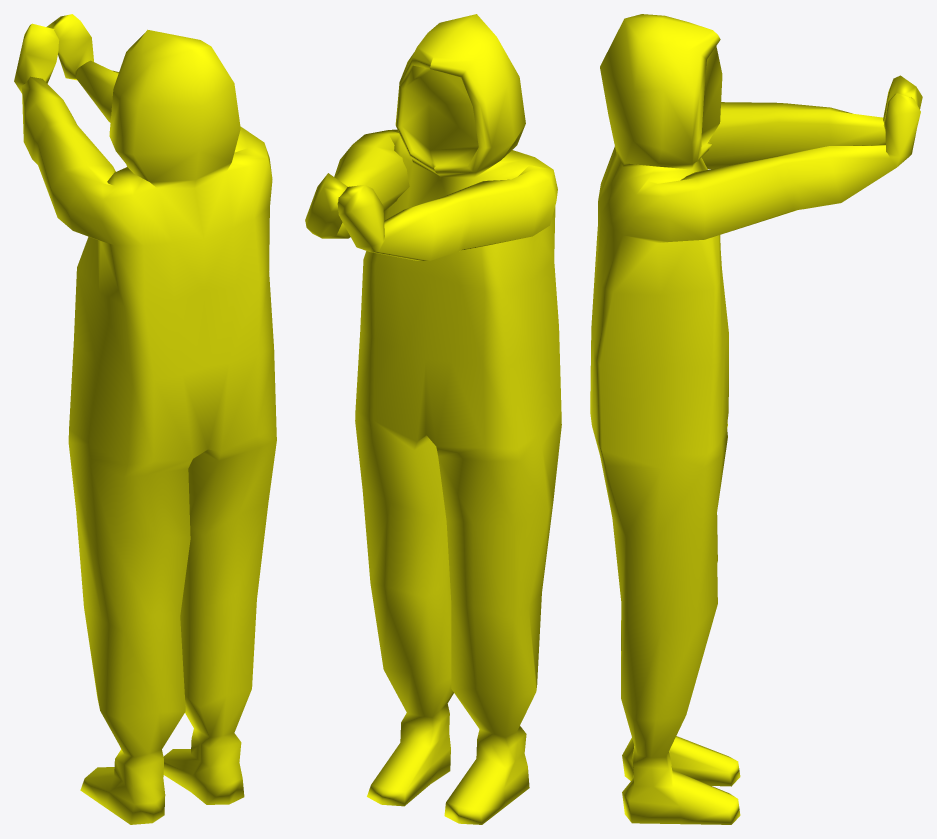
The model's file is Hazmat_Character.obj.
3 renders of one model, left to right at view 1: azimuth 30°, elevation 25°; view 2: azimuth 150°, elevation 25°; view 3: azimuth 270°, elevation 25°, orthographic. The views are drawn at different scales.
Visible parts, largest first — view 1: Male_4; view 2: Male_4; view 3: Male_4.
Boxes of the visible parts, x1=… form: Male_4: x1=14, y1=14, x2=276, y2=824; Male_4: x1=305, y1=14, x2=561, y2=824; Male_4: x1=590, y1=14, x2=922, y2=824.
Bounding box in the file's own units: 0.6704 × 2.43 × 0.9417.
